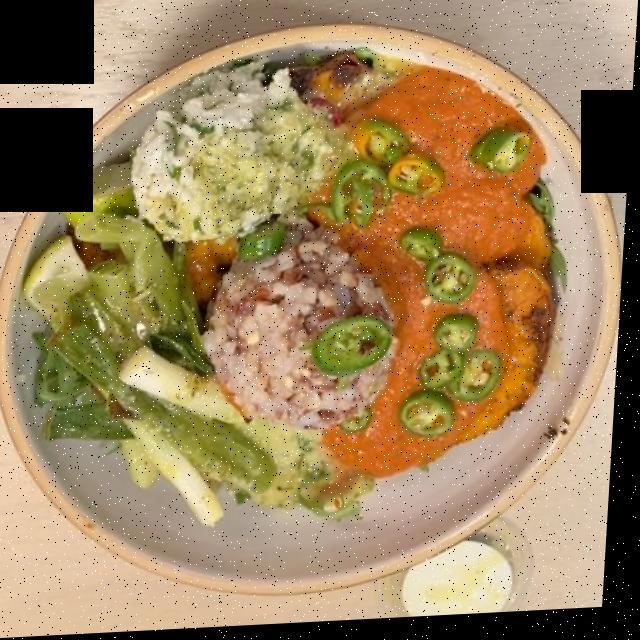fresh-cheese: (132, 65, 351, 246)
leek: (42, 221, 288, 520)
quinoa: (202, 249, 400, 431)
sweet-potato: (384, 227, 562, 486)
tomato-sauce: (321, 80, 542, 479)
